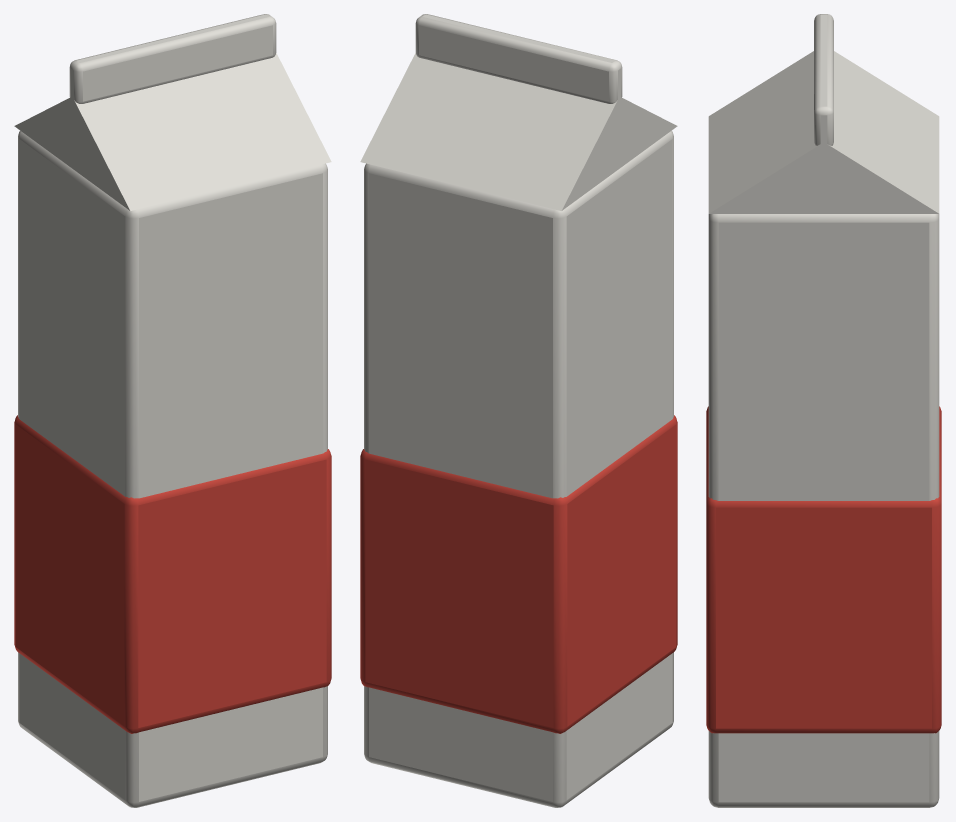
Rendered from item_carton_red.fbx.
The picture shows the model from 3 angles, left to right: view 1: azimuth 30°, elevation 25°; view 2: azimuth 150°, elevation 25°; view 3: azimuth 270°, elevation 25°; orthographic projection.
Visible parts, largest first — view 1: item_carton_red; view 2: item_carton_red; view 3: item_carton_red.
Boxes of the visible parts, <box> form: item_carton_red: <box>14,14,331,807</box>; item_carton_red: <box>360,14,677,807</box>; item_carton_red: <box>706,14,941,807</box>.
Size of the model in its own units: 0.0715 by 0.235 by 0.0715.
